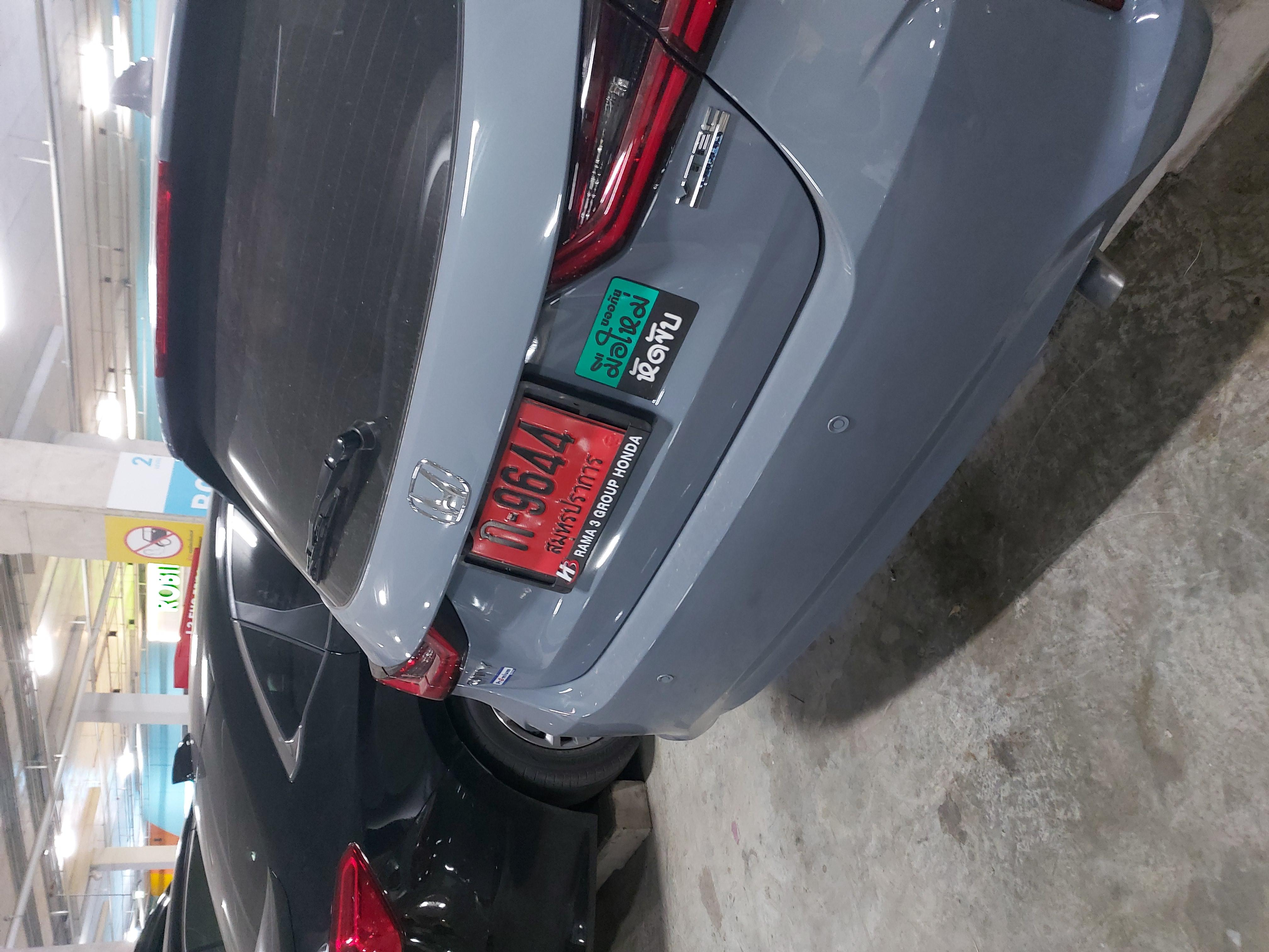license-plate: (497, 349, 745, 471)
